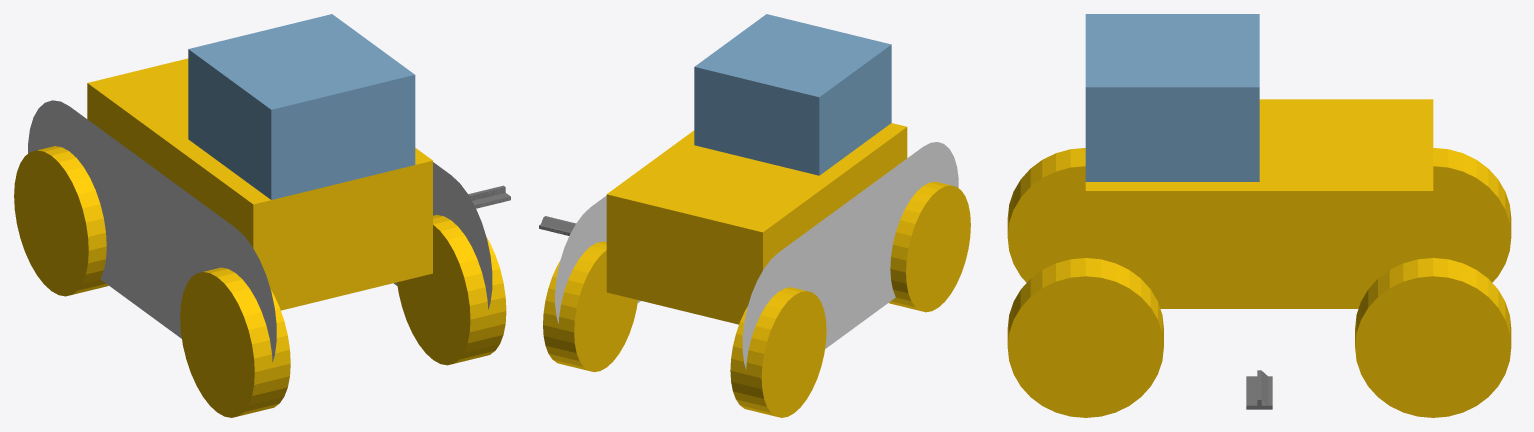
The model's file is bulldozer_components.glb.
The picture shows the model from 3 angles, left to right: view 1: azimuth 30°, elevation 25°; view 2: azimuth 150°, elevation 25°; view 3: azimuth 270°, elevation 25°; orthographic projection. The views are drawn at different scales.
Parts seen in each view (by area): view 1: Bulldozer_Body, Asset_TrackPath_L, Asset_TrackPath_R, Asset_TrackLink; view 2: Bulldozer_Body, Asset_TrackPath_L, Asset_TrackPath_R, Asset_TrackLink; view 3: Bulldozer_Body, Asset_TrackLink.
Part boxes in pixels (x1,y1,x2,y2): Bulldozer_Body: [14, 14, 506, 417]; Asset_TrackPath_L: [28, 100, 276, 361]; Asset_TrackPath_R: [393, 162, 492, 309]; Asset_TrackLink: [468, 185, 510, 208]; Bulldozer_Body: [543, 14, 970, 417]; Asset_TrackPath_L: [742, 142, 958, 369]; Asset_TrackPath_R: [555, 195, 640, 323]; Asset_TrackLink: [539, 216, 575, 235]; Bulldozer_Body: [1007, 14, 1511, 417]; Asset_TrackLink: [1246, 370, 1272, 409].
Size of the model in its own units: 5.15 by 3.85 by 5.99.
